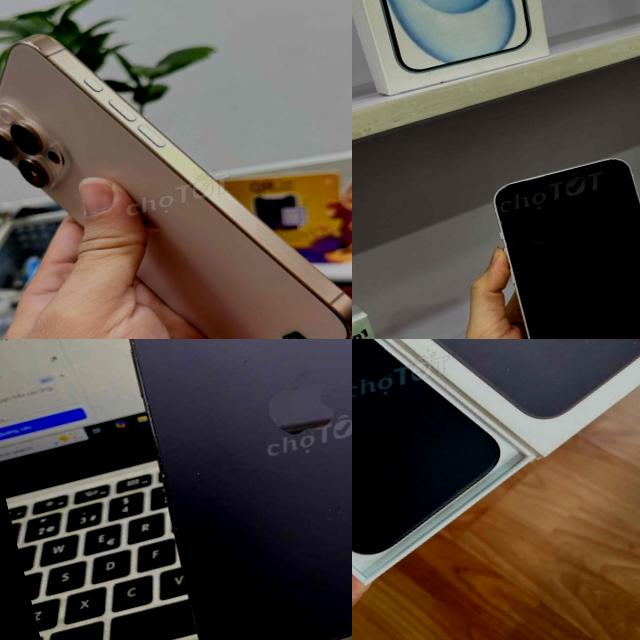gen_12_13: (481, 148, 640, 339)
gen_14: (81, 339, 352, 640)
gen_16: (0, 35, 352, 339), (352, 339, 498, 552)
